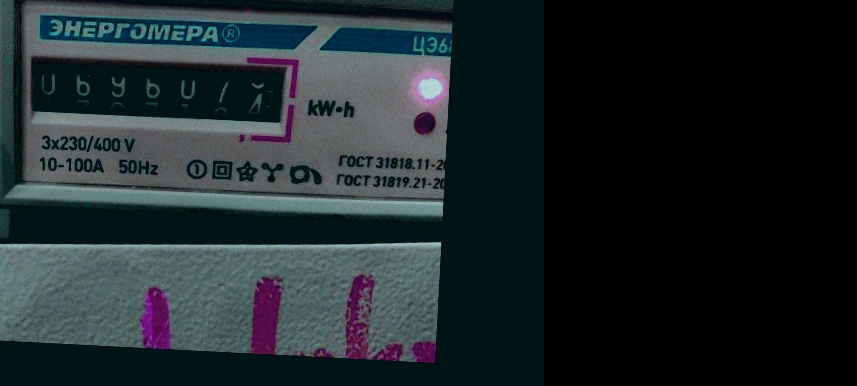0: (36, 65, 58, 96), (177, 70, 198, 101)
4: (244, 89, 264, 118)
6: (70, 66, 94, 97), (142, 70, 163, 99)
7: (212, 72, 231, 103)
9: (107, 69, 127, 99)
screen: (11, 37, 300, 142)
